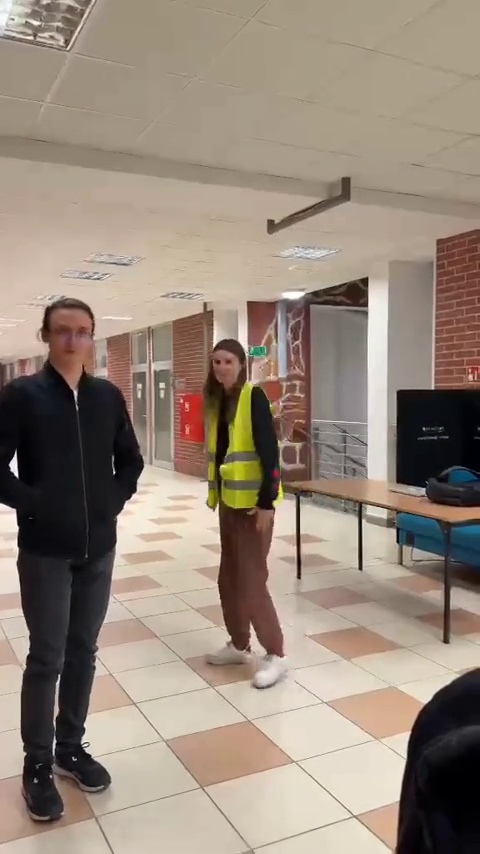no vest: (6, 298, 145, 818)
vest: (193, 340, 304, 689)
